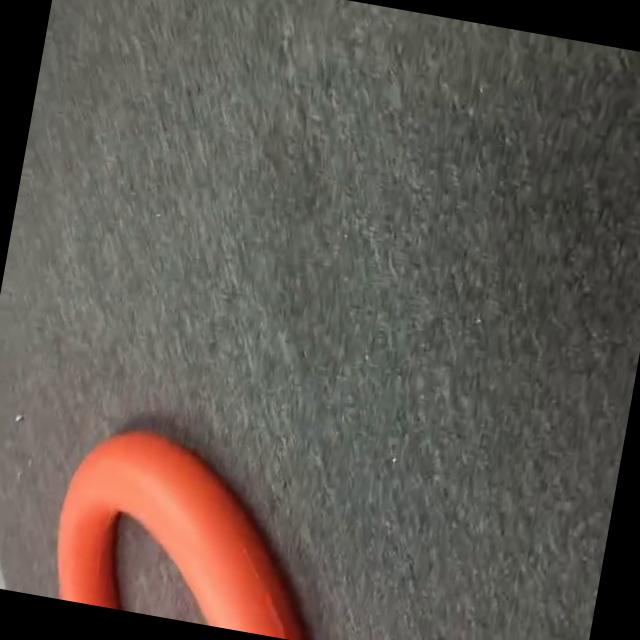note: (32, 403, 351, 640)
